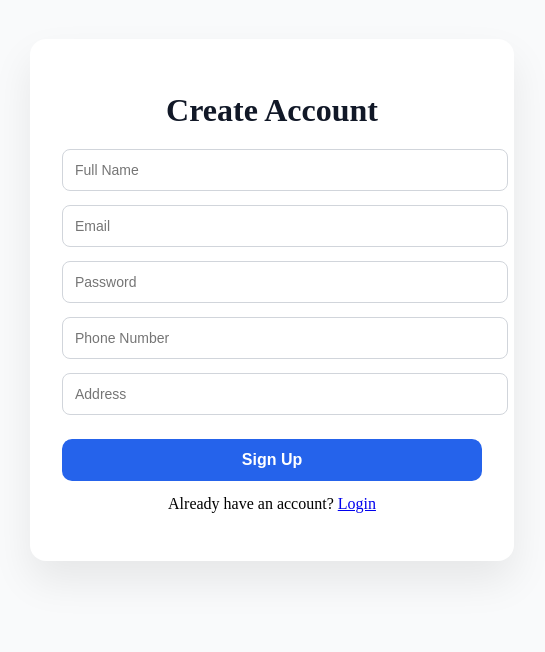
Signup Component › shows validation error for invalid password format
In the password field with placeholder "Password": (285, 282) x1=62 y1=261 x2=508 y2=303, type "short"
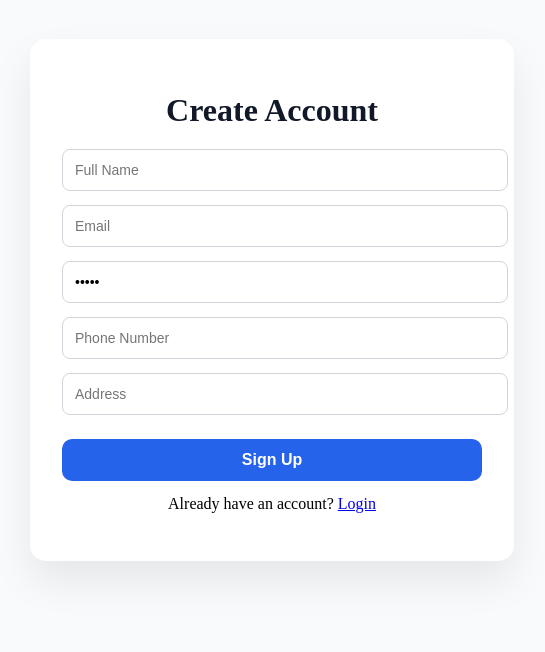
Click the button "Sign Up": (272, 460) x1=62 y1=439 x2=482 y2=481
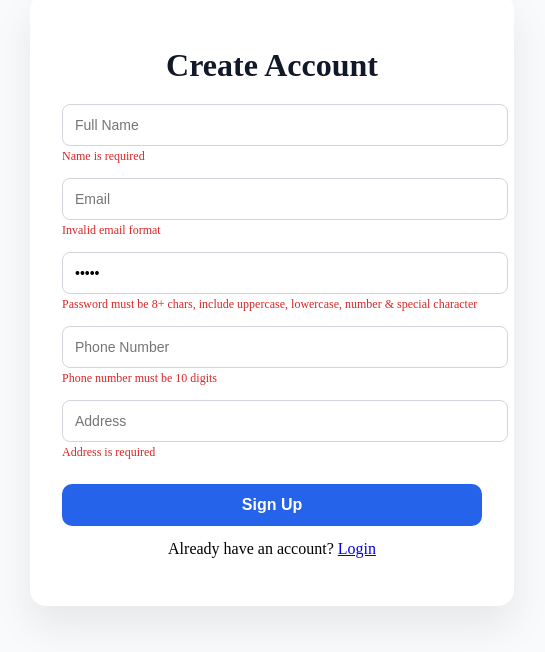
expect the text "Password must be 8+ chars, include uppercase, lowercase, number & special character" is shown: met, box x1=62 y1=297 x2=477 y2=311
